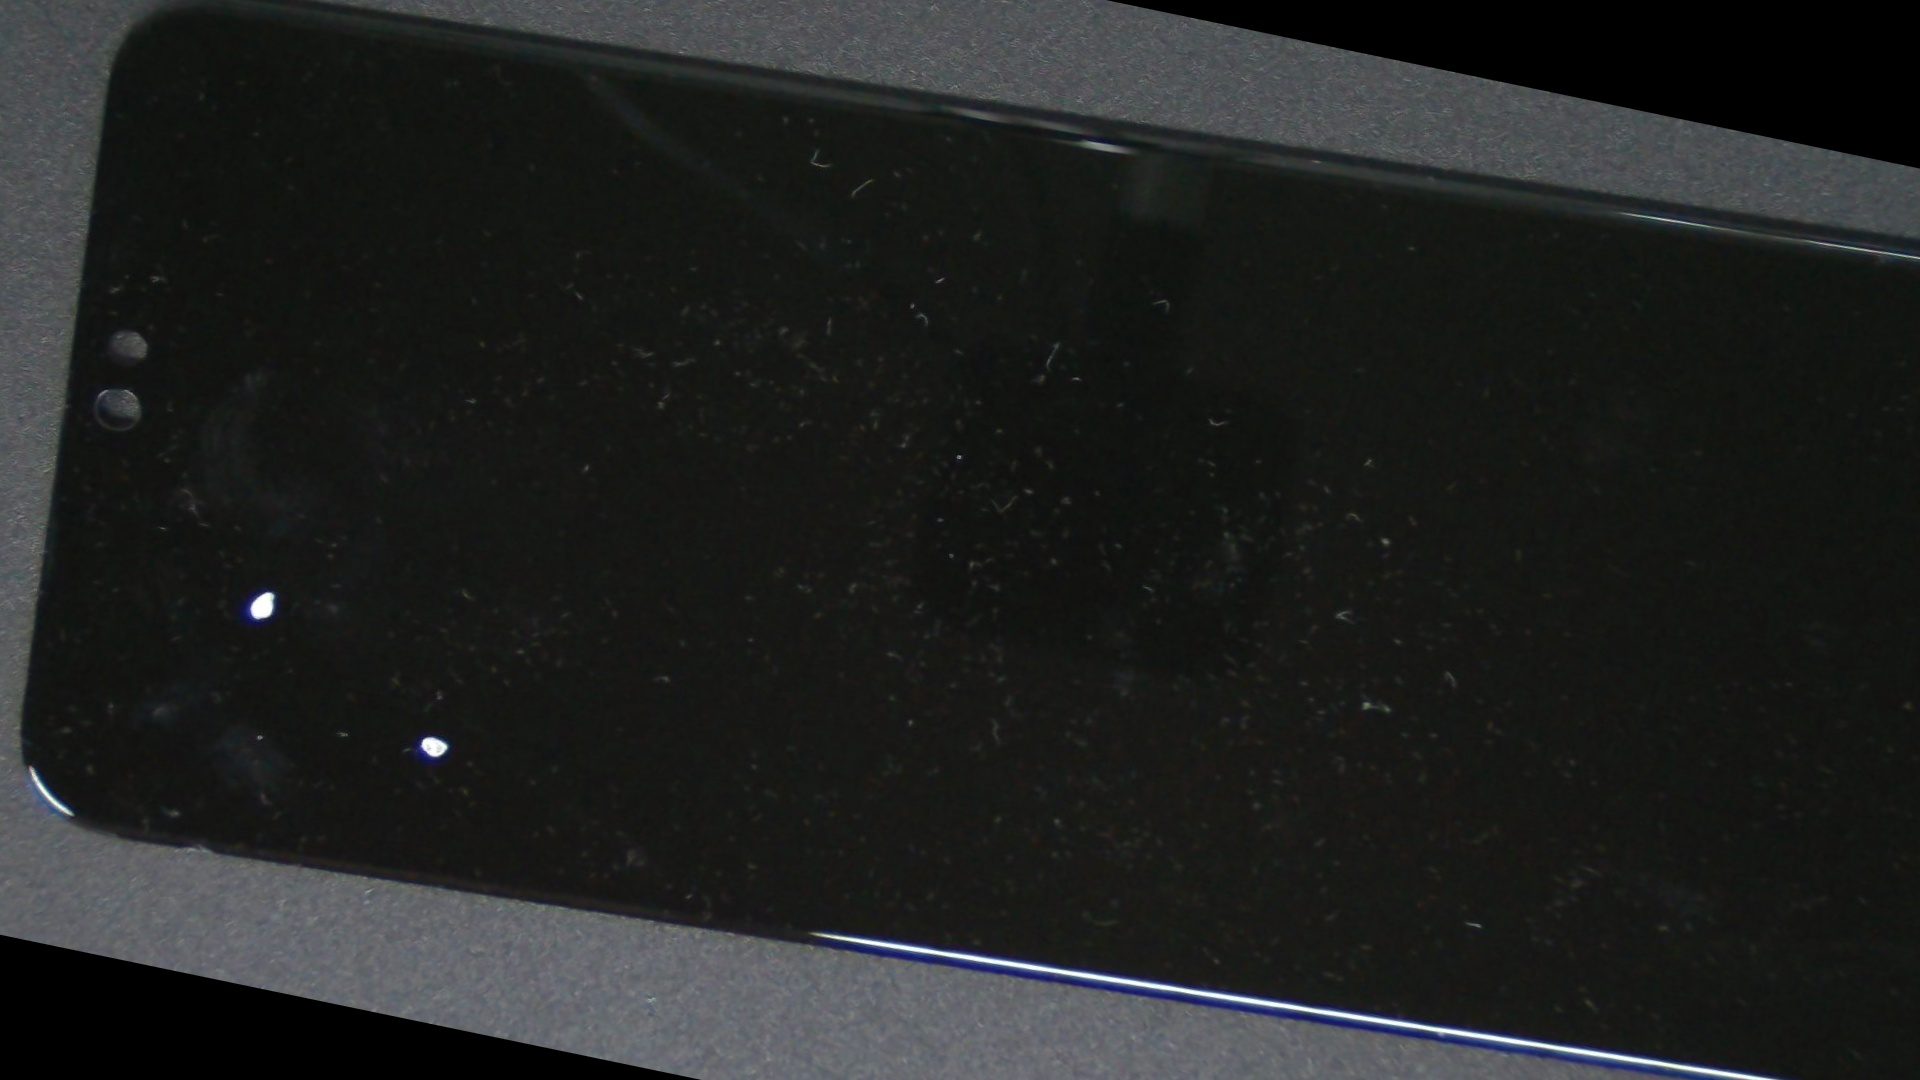oil: (88, 256, 803, 1071), (0, 183, 539, 998)
